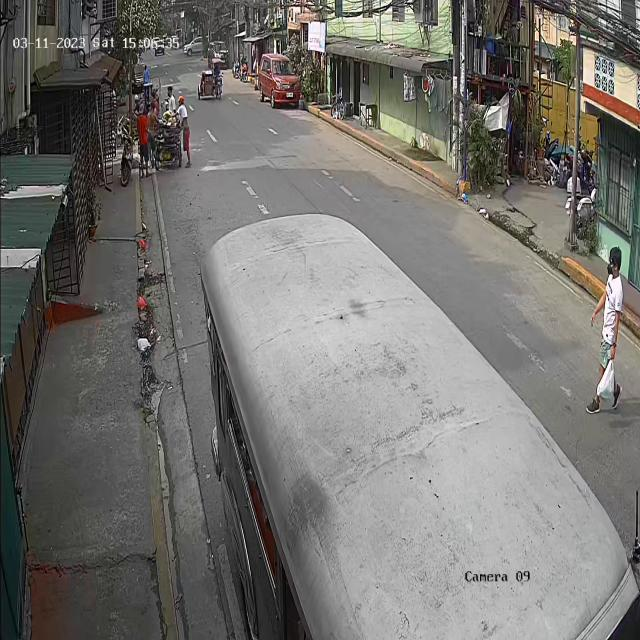human: (586, 245, 622, 414)
trash: (595, 354, 618, 402)
